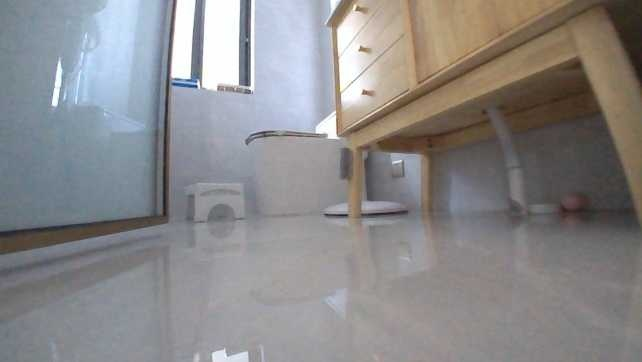plastic_stool: (182, 177, 245, 222)
toilet: (242, 105, 368, 215)
washstand: (317, 1, 641, 162)
